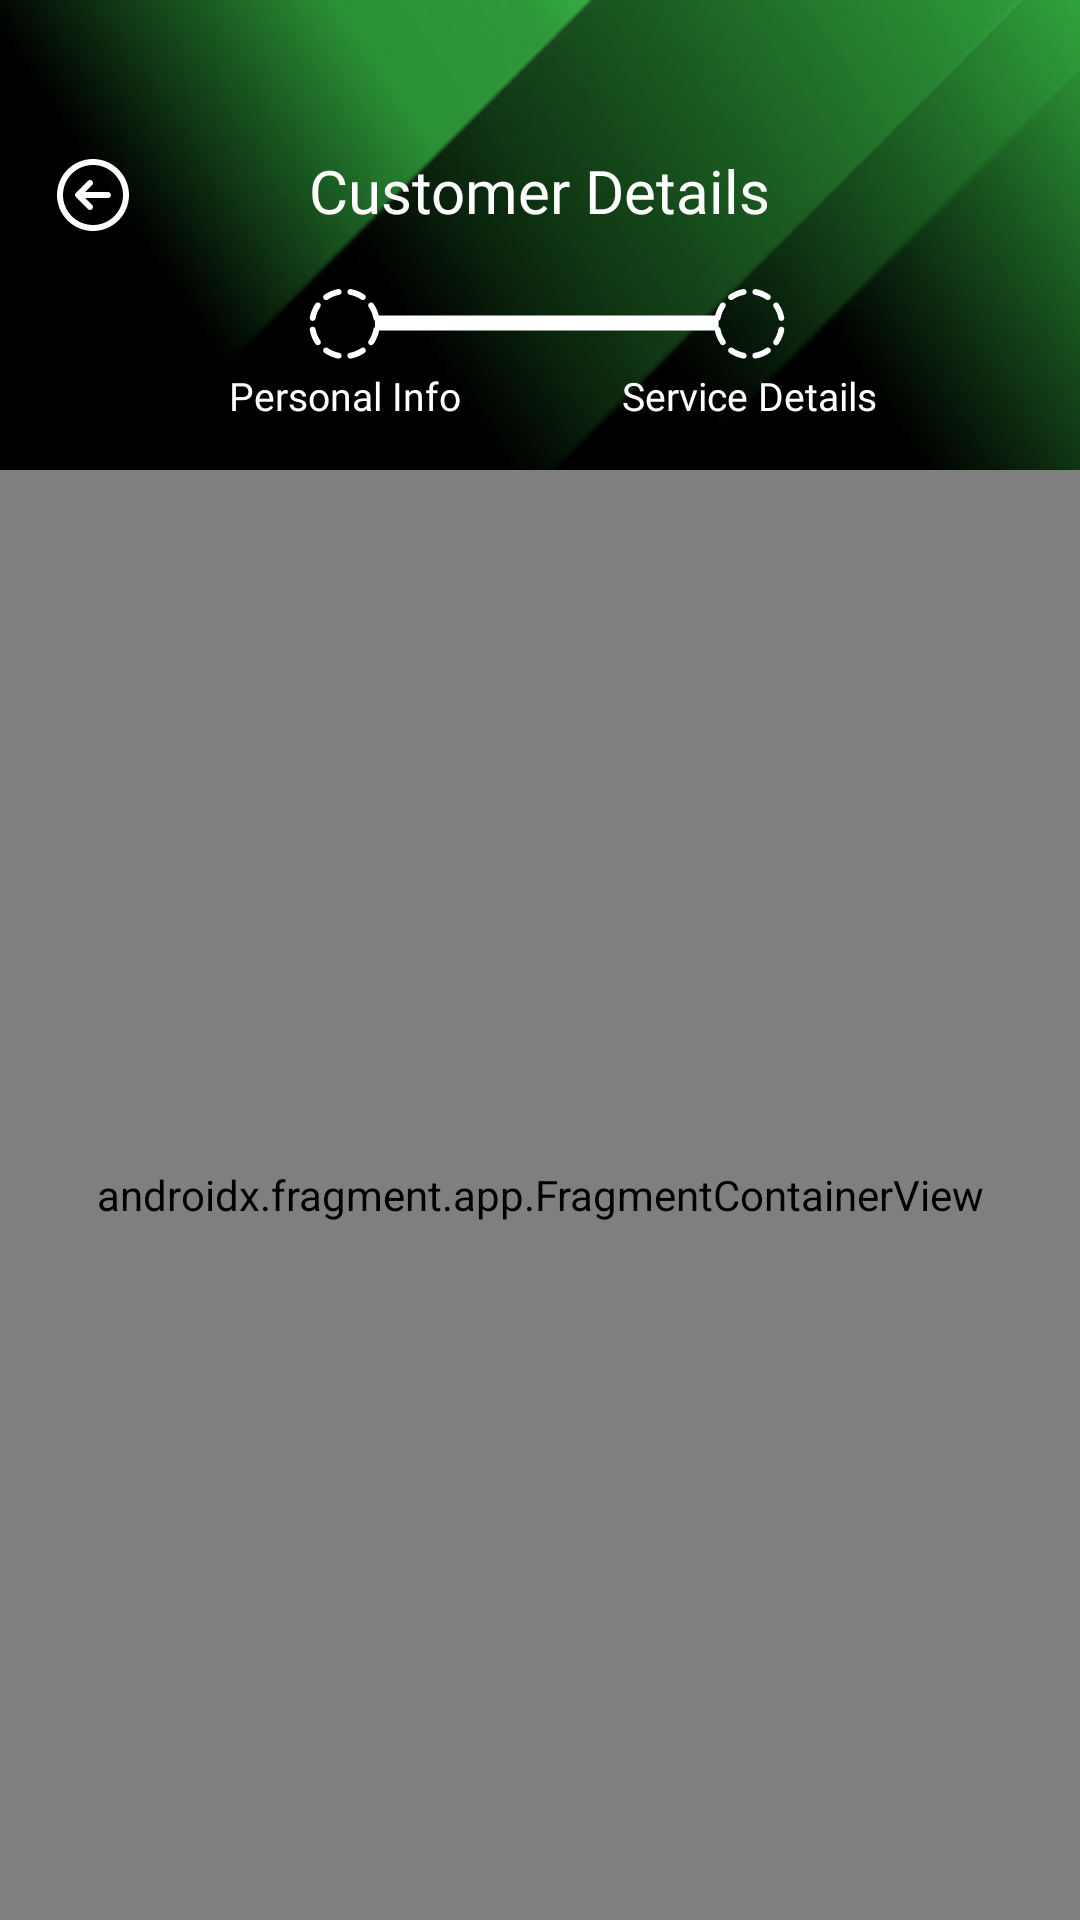

Icon click points for this 1080 × 1920 phone screenshot, format (x=x, y=y):
backicon: (x=93, y=195)
notcompleted: (x=749, y=324), (x=337, y=324)
